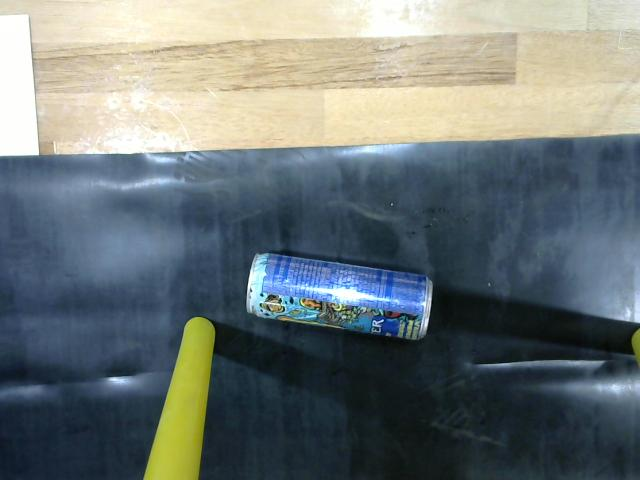can: (242, 246, 436, 348)
